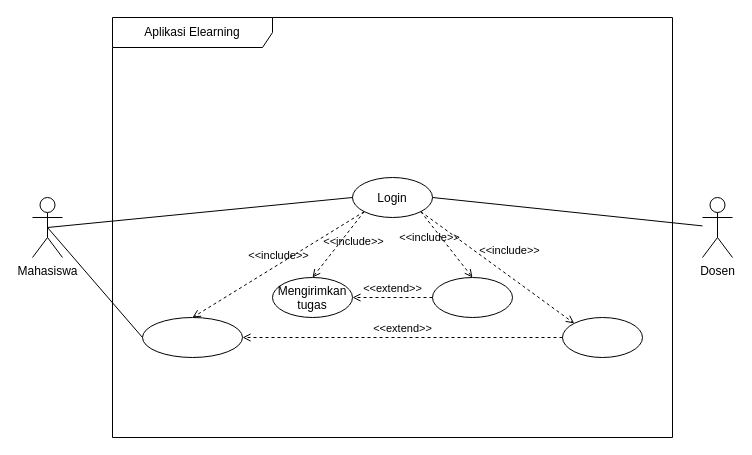
This 752x455 diagram has some shape labels left out. Each missing label, with the box of its shape:
Memberikan Materi: (562, 316, 642, 358)
Memberikan nilai: (432, 276, 512, 318)
Mengakses materi: (142, 316, 242, 358)
